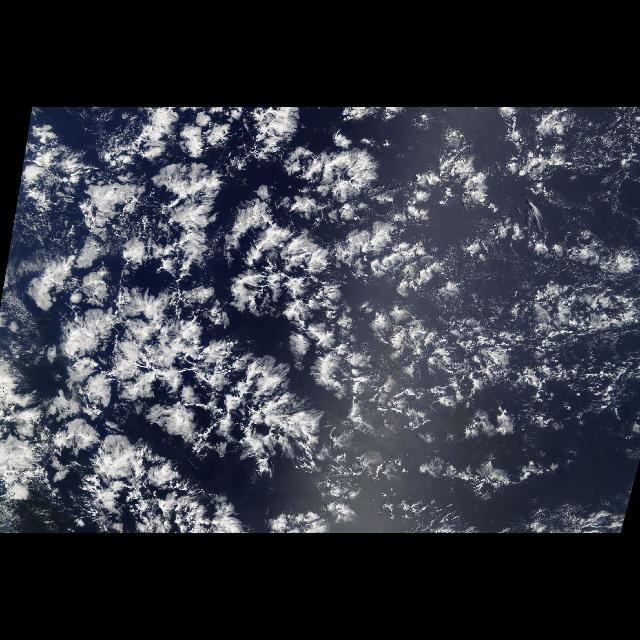Flower: (61, 121, 472, 517)
